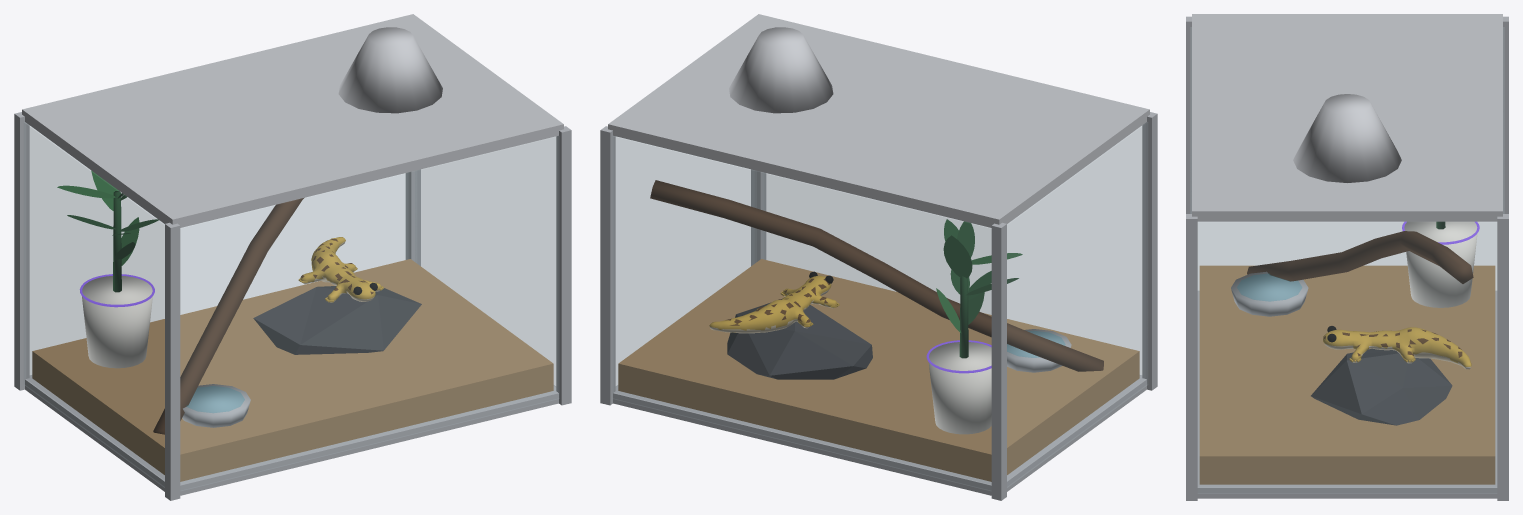
File: Pet_Gecko_Terrarium.gltf
3 views of the same model, side by side, from view 1: azimuth 30°, elevation 25°; view 2: azimuth 150°, elevation 25°; view 3: azimuth 270°, elevation 25° (orthographic). The views are drawn at different scales.
Visible parts, largest first — view 1: Pet_Gecko_Terrarium, Gecko; view 2: Pet_Gecko_Terrarium, Gecko; view 3: Pet_Gecko_Terrarium, Gecko.
Boxes of the visible parts, x1,y1,x2,y2 form: Pet_Gecko_Terrarium: [14, 14, 571, 500]; Gecko: [298, 237, 383, 302]; Pet_Gecko_Terrarium: [600, 14, 1157, 500]; Gecko: [709, 271, 839, 333]; Pet_Gecko_Terrarium: [1186, 14, 1508, 500]; Gecko: [1323, 326, 1471, 369].
Size of the model in its own units: 0.615 by 0.49 by 0.415.
